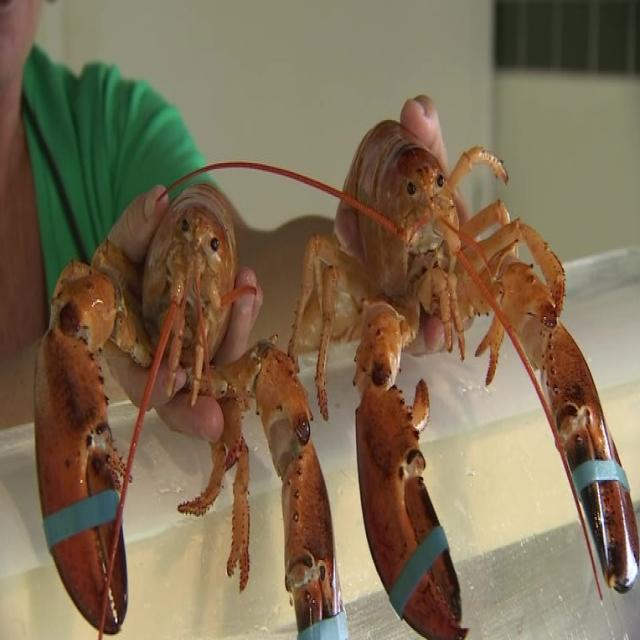Lobster: (170, 119, 640, 639), (35, 183, 348, 638)
